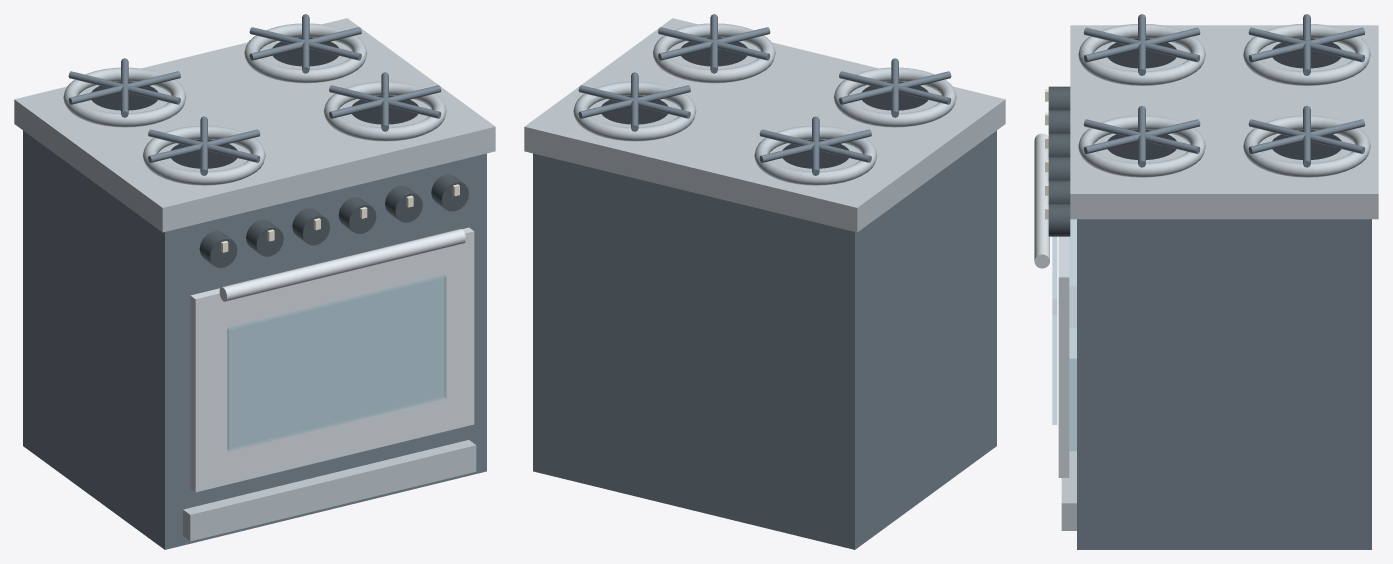
File: gas_range01.glb
3 views of the same model, side by side, from view 1: azimuth 30°, elevation 25°; view 2: azimuth 150°, elevation 25°; view 3: azimuth 270°, elevation 25° (orthographic). The views are drawn at different scales.
Parts seen in each view (by area): view 1: housing_steel_painted_0, oven_frame_chrome_3, hob_steel_brushed_1, oven_window_glass_tinted_4, burner_ring_steel_brushed_6, kick_steel_brushed_11, grate_steel_painted_8, knobs_plastic_dark_9, handle_chrome_5, burner_cap_rubber_dark_7; view 2: housing_steel_painted_0, hob_steel_brushed_1, burner_ring_steel_brushed_6, grate_steel_painted_8, burner_cap_rubber_dark_7; view 3: housing_steel_painted_0, hob_steel_brushed_1, burner_ring_steel_brushed_6, grate_steel_painted_8, burner_cap_rubber_dark_7, knobs_plastic_dark_9, oven_frame_chrome_3, oven_glass_glass_tinted_2, handle_chrome_5, kick_steel_brushed_11, oven_window_glass_tinted_4.
Boxes of the visible parts, <box> form: housing_steel_painted_0: <box>23,130,486,549</box>; oven_frame_chrome_3: <box>190,227,474,492</box>; hob_steel_brushed_1: <box>14,18,495,232</box>; oven_window_glass_tinted_4: <box>227,275,446,450</box>; burner_ring_steel_brushed_6: <box>63,23,446,185</box>; kick_steel_brushed_11: <box>183,440,476,541</box>; grate_steel_painted_8: <box>68,14,441,175</box>; knobs_plastic_dark_9: <box>199,174,469,267</box>; handle_chrome_5: <box>219,229,465,301</box>; burner_cap_rubber_dark_7: <box>91,37,418,168</box>; housing_steel_painted_0: <box>533,130,996,549</box>; hob_steel_brushed_1: <box>524,18,1005,232</box>; burner_ring_steel_brushed_6: <box>573,23,956,185</box>; grate_steel_painted_8: <box>578,14,951,175</box>; burner_cap_rubber_dark_7: <box>601,37,928,168</box>; housing_steel_painted_0: <box>1077,219,1371,549</box>; hob_steel_brushed_1: <box>1070,25,1378,219</box>; burner_ring_steel_brushed_6: <box>1078,24,1370,177</box>; grate_steel_painted_8: <box>1083,14,1365,167</box>; burner_cap_rubber_dark_7: <box>1107,38,1341,159</box>; knobs_plastic_dark_9: <box>1048,86,1070,236</box>; oven_frame_chrome_3: <box>1058,236,1069,477</box>; oven_glass_glass_tinted_2: <box>1069,219,1076,450</box>; handle_chrome_5: <box>1034,133,1049,268</box>; kick_steel_brushed_11: <box>1061,358,1076,530</box>; oven_window_glass_tinted_4: <box>1052,237,1056,424</box>.
Bounding box in the file's own units: 0.92 × 0.969 × 0.793.
